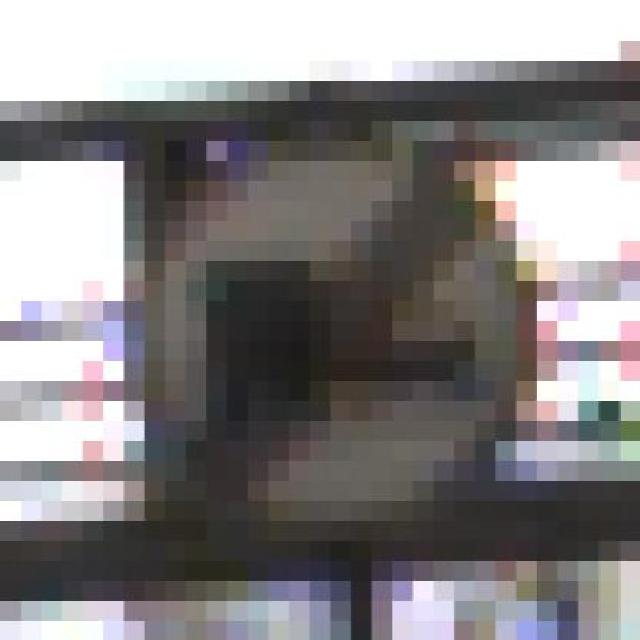Overtaking by trucks is prohibited: (82, 80, 578, 600)
